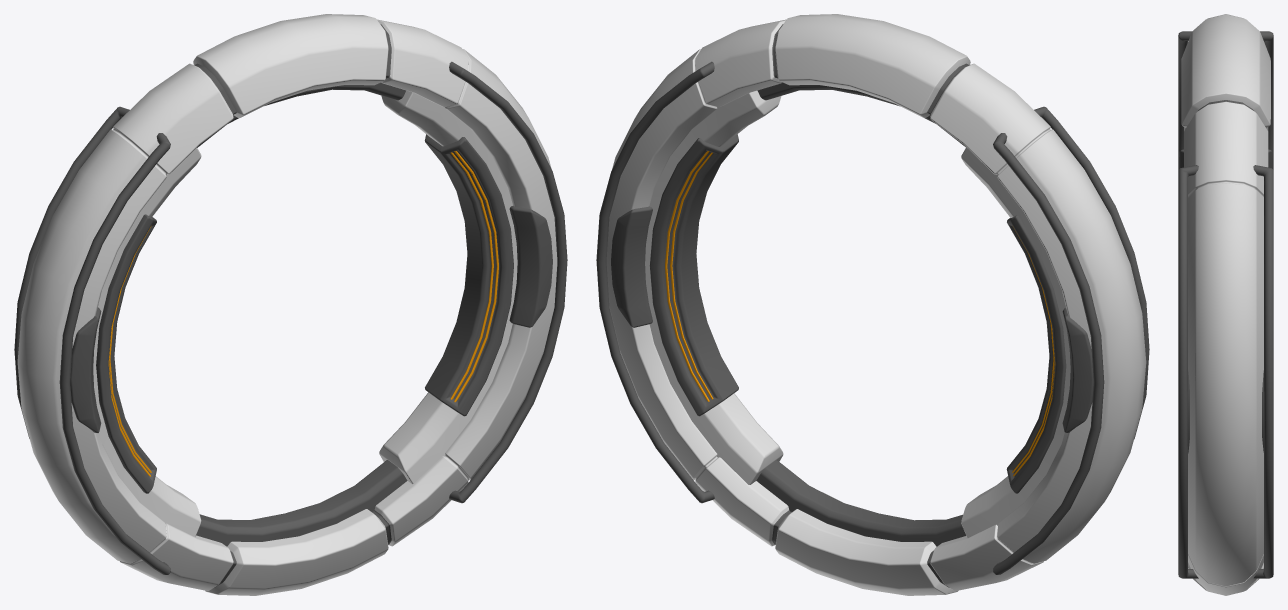
File: AcceleratingRing1.fbx
3 views of the same model, side by side, from view 1: azimuth 30°, elevation 25°; view 2: azimuth 150°, elevation 25°; view 3: azimuth 270°, elevation 25° (orthographic). The views are drawn at different scales.
Visible parts, largest first — view 1: AcceleratingRing1; view 2: AcceleratingRing1; view 3: AcceleratingRing1.
Part boxes in pixels (left/top/right/bottom): AcceleratingRing1: left=14, top=14, right=567, bottom=595; AcceleratingRing1: left=596, top=14, right=1149, bottom=595; AcceleratingRing1: left=1178, top=14, right=1273, bottom=595.
Bounding box in the file's own units: 36.13 × 36.21 × 5.91.
Materials: 1 (1 with a texture image).
